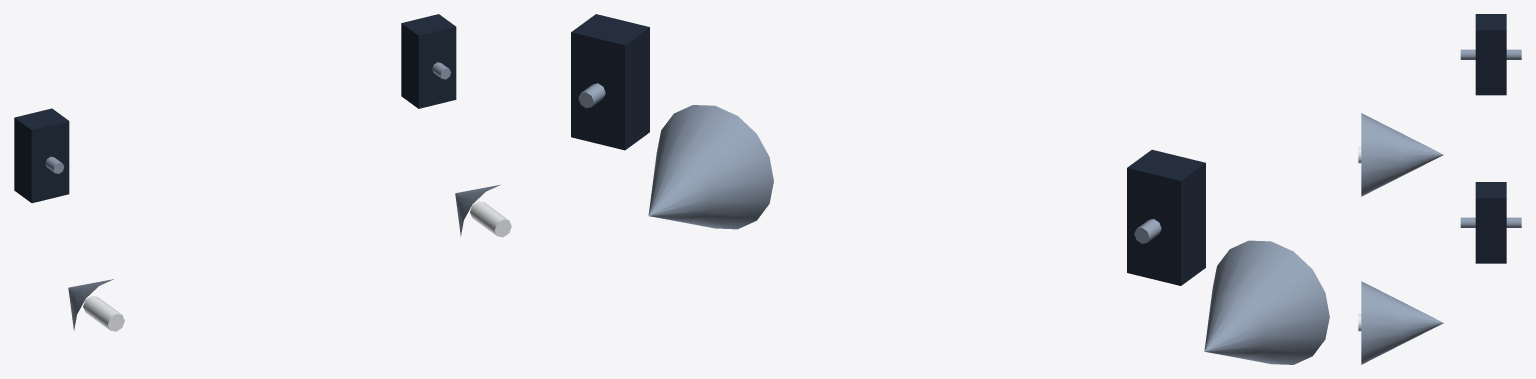
File: exhaust_flame_dispersers.glb
3 renders of one model, left to right at view 1: azimuth 30°, elevation 25°; view 2: azimuth 150°, elevation 25°; view 3: azimuth 270°, elevation 25°, orthographic. The views are drawn at different scales.
Parts seen in each view (by area): view 1: Exhaust_Dispersers_Hangers_Assembly; view 2: Exhaust_Dispersers_Hangers_Assembly; view 3: Exhaust_Dispersers_Hangers_Assembly.
Part boxes in pixels (x1,y1,x2,y2): Exhaust_Dispersers_Hangers_Assembly: (14,14,511,331); Exhaust_Dispersers_Hangers_Assembly: (571,14,1329,364); Exhaust_Dispersers_Hangers_Assembly: (1358,14,1521,364).
Size of the model in its own units: 0.436 by 0.1705 by 0.1475.
